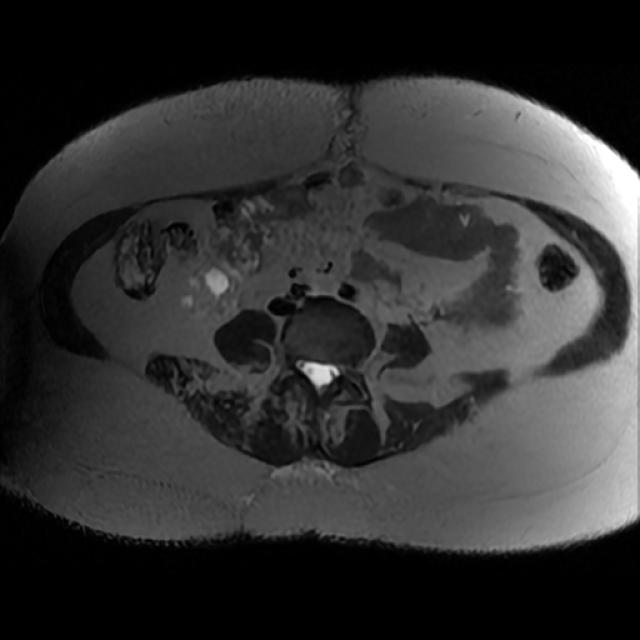sag: (180, 256, 245, 318)
